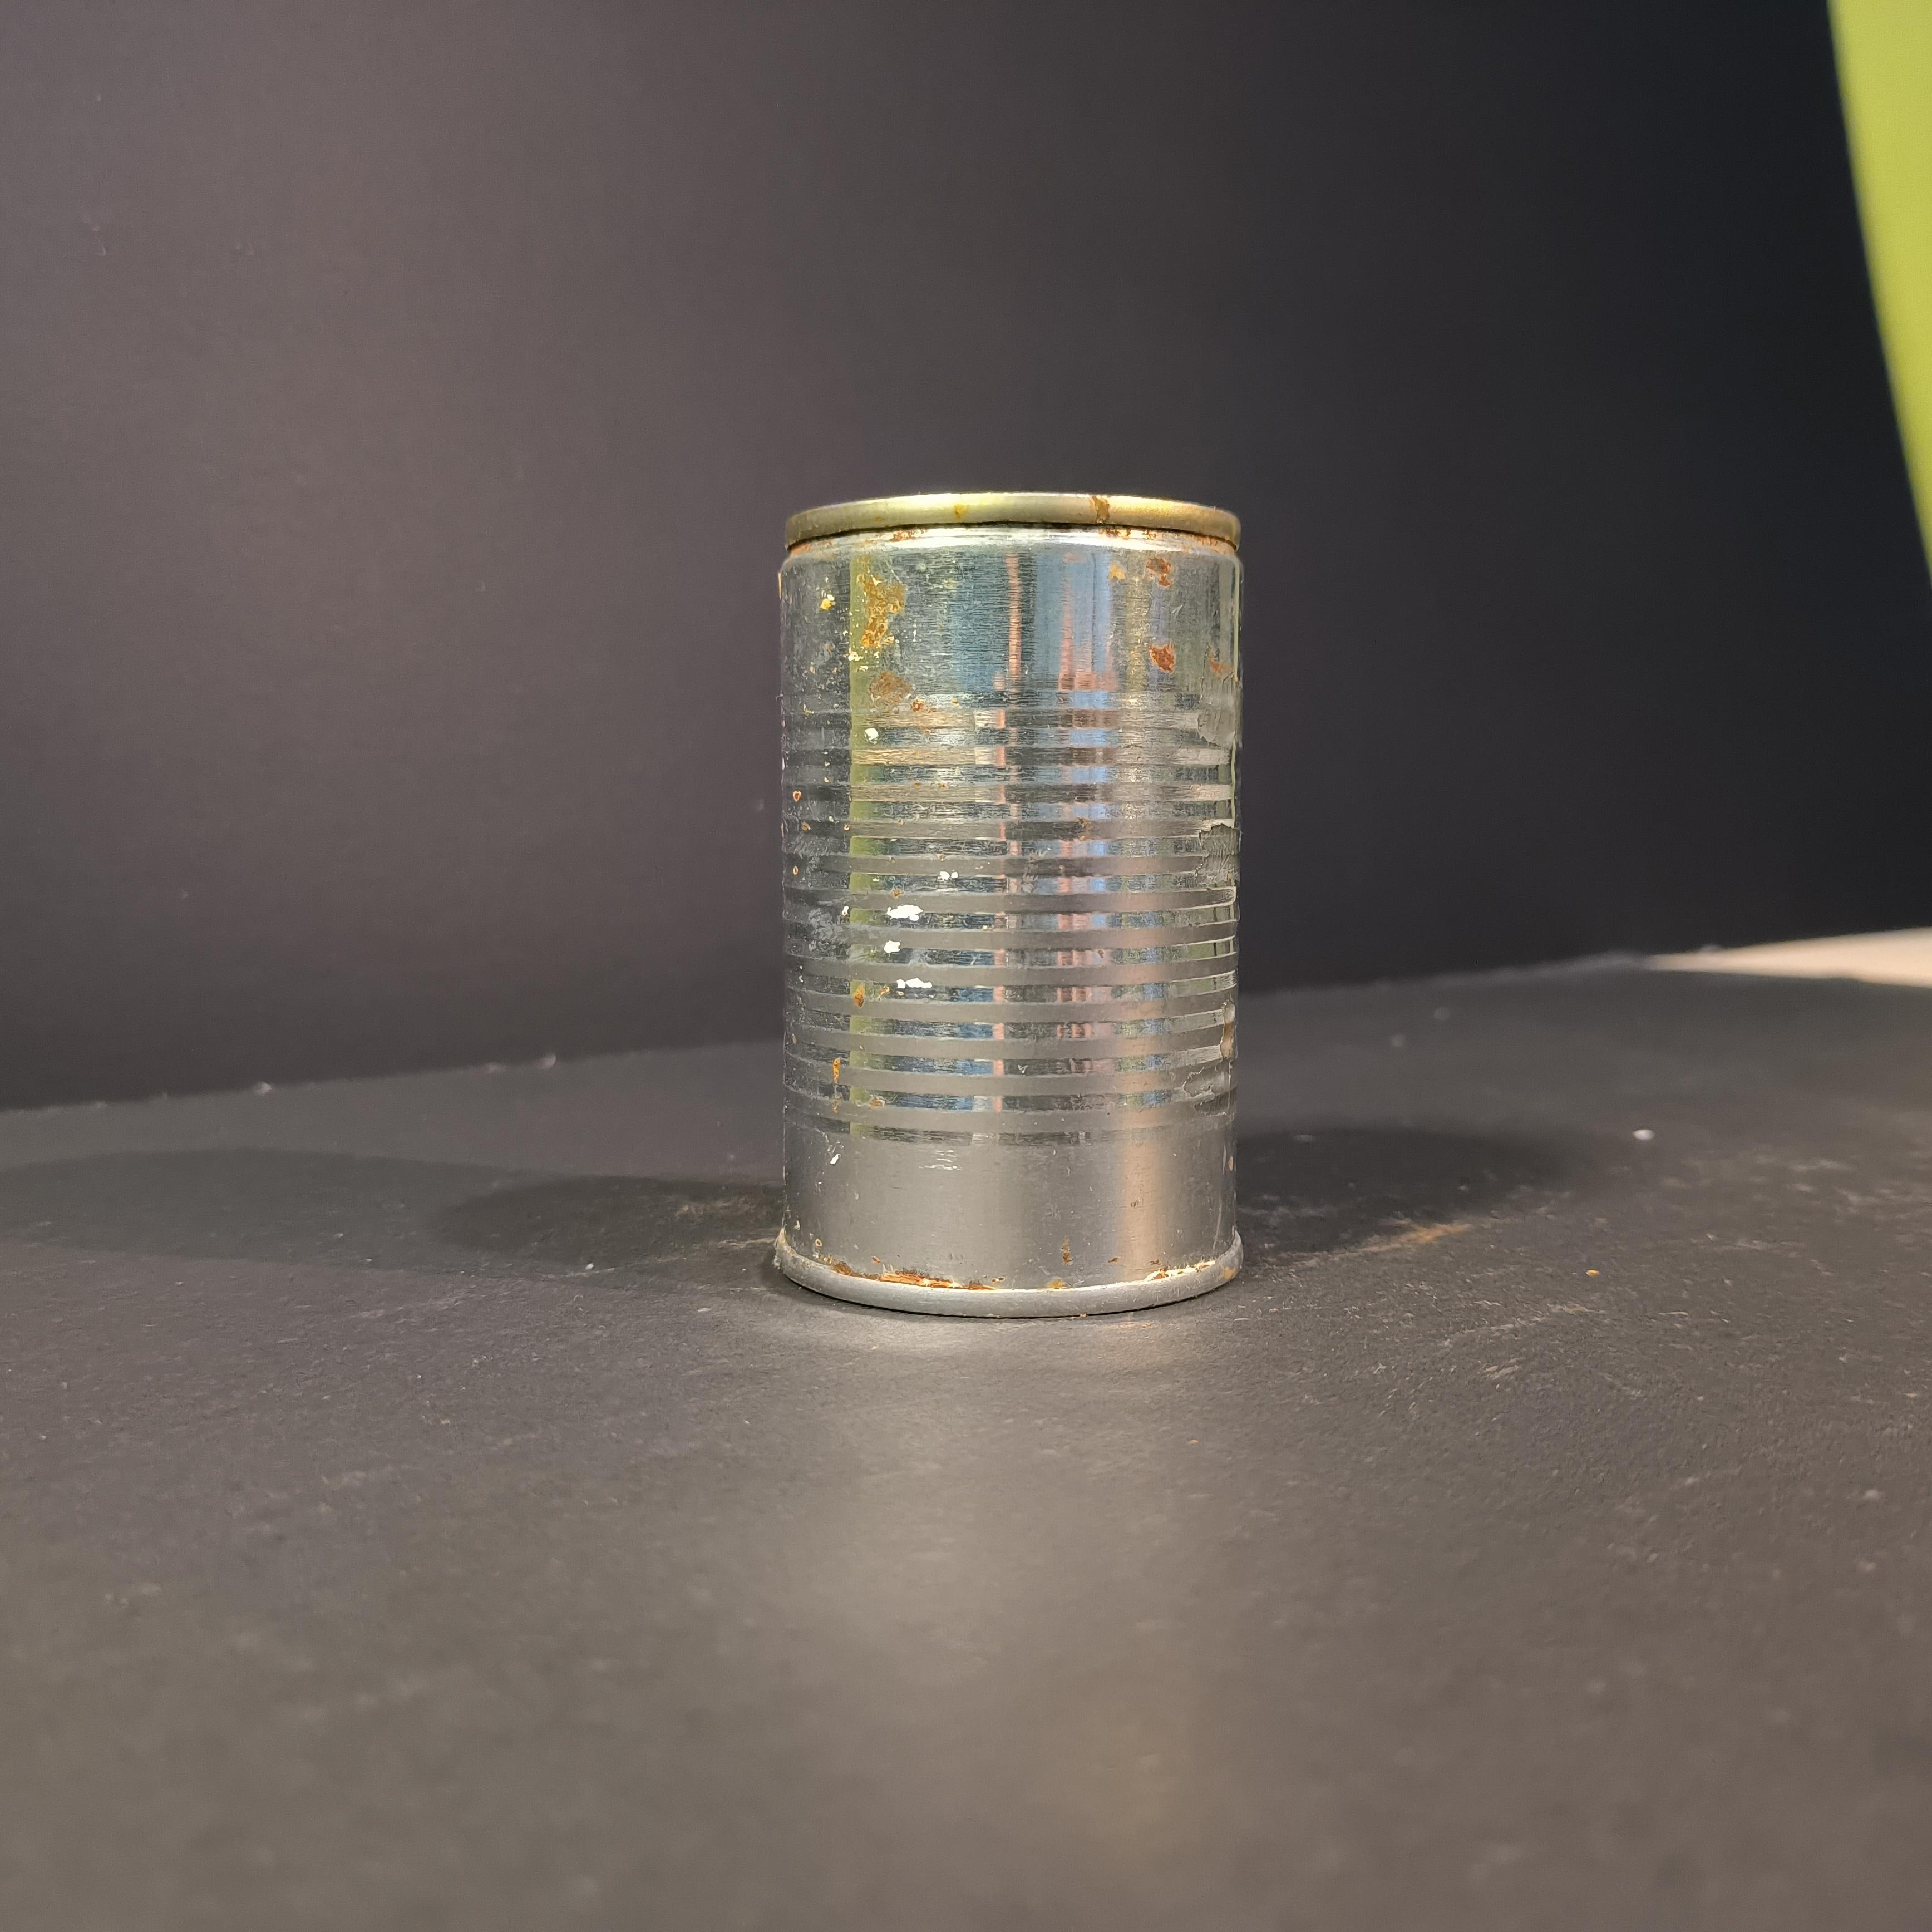Rusted: (740, 476, 1293, 1346)
